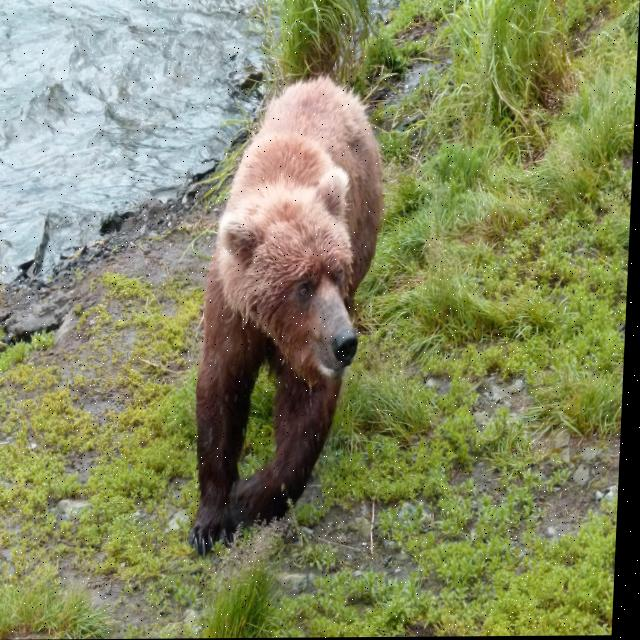bear face: (195, 75, 393, 556)
